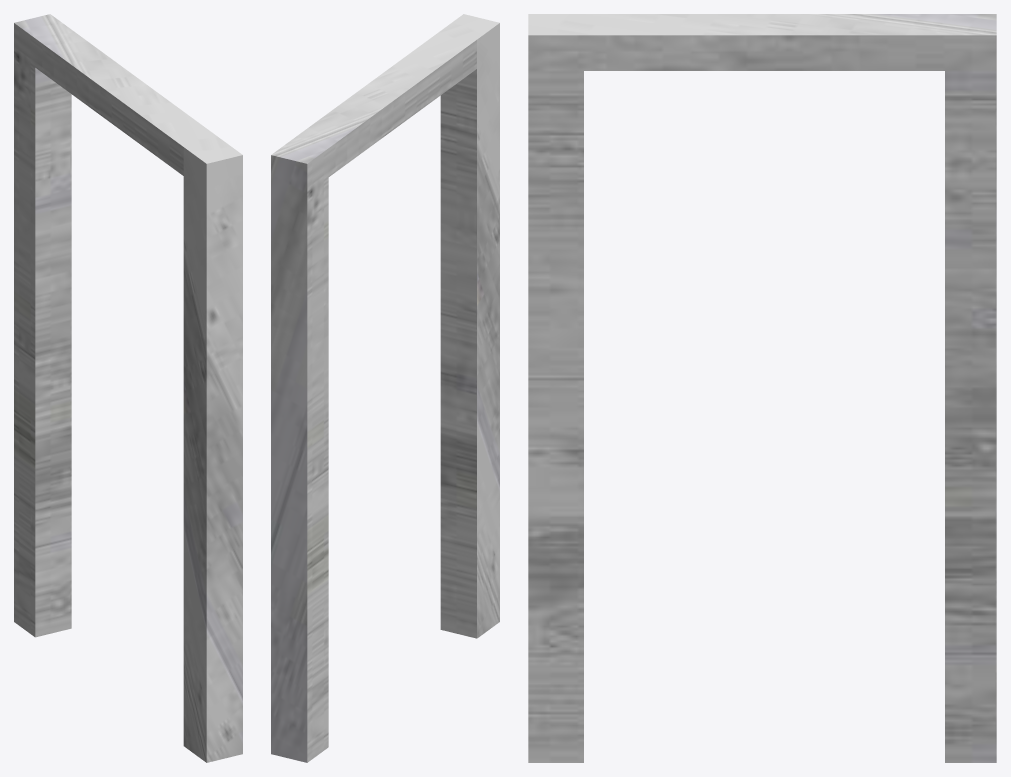
The model's file is DoorOuter.obj.
3 views of the same model, side by side, from view 1: azimuth 30°, elevation 25°; view 2: azimuth 150°, elevation 25°; view 3: azimuth 270°, elevation 25° (orthographic). The views are drawn at different scales.
Visible parts, largest first — view 1: Door_Cube.002; view 2: Door_Cube.002; view 3: Door_Cube.002.
Boxes of the visible parts, x1,y1,x2,y2 form: Door_Cube.002: (14, 14, 242, 762); Door_Cube.002: (271, 14, 499, 762); Door_Cube.002: (528, 14, 996, 762).
Size of the model in its own units: 0.6133 by 9.68 by 5.64.
